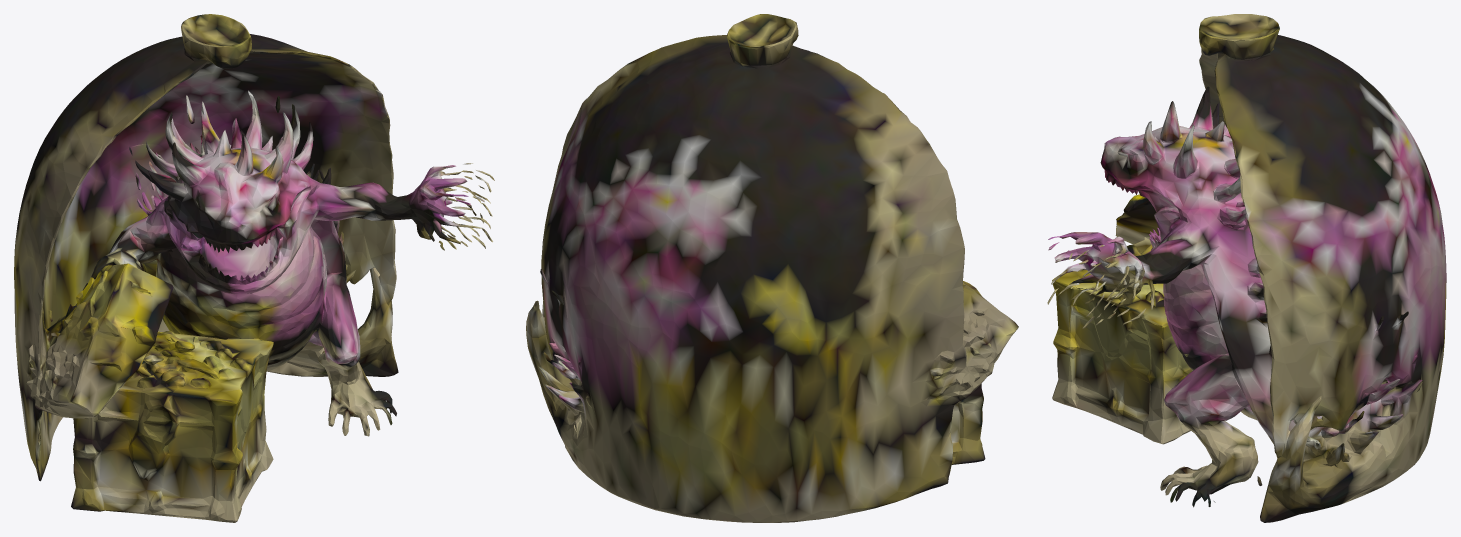
The model's file is bandit.glb.
3 views of the same model, side by side, from view 1: azimuth 30°, elevation 25°; view 2: azimuth 150°, elevation 25°; view 3: azimuth 270°, elevation 25° (orthographic).
Visible parts, largest first — view 1: world; view 2: world; view 3: world.
Boxes of the visible parts, x1=… form: world: x1=14, y1=14, x2=494, y2=522; world: x1=526, y1=14, x2=1018, y2=522; world: x1=1047, y1=14, x2=1446, y2=522.
Bounding box in the file's own units: 1.03 × 1 × 0.88.
